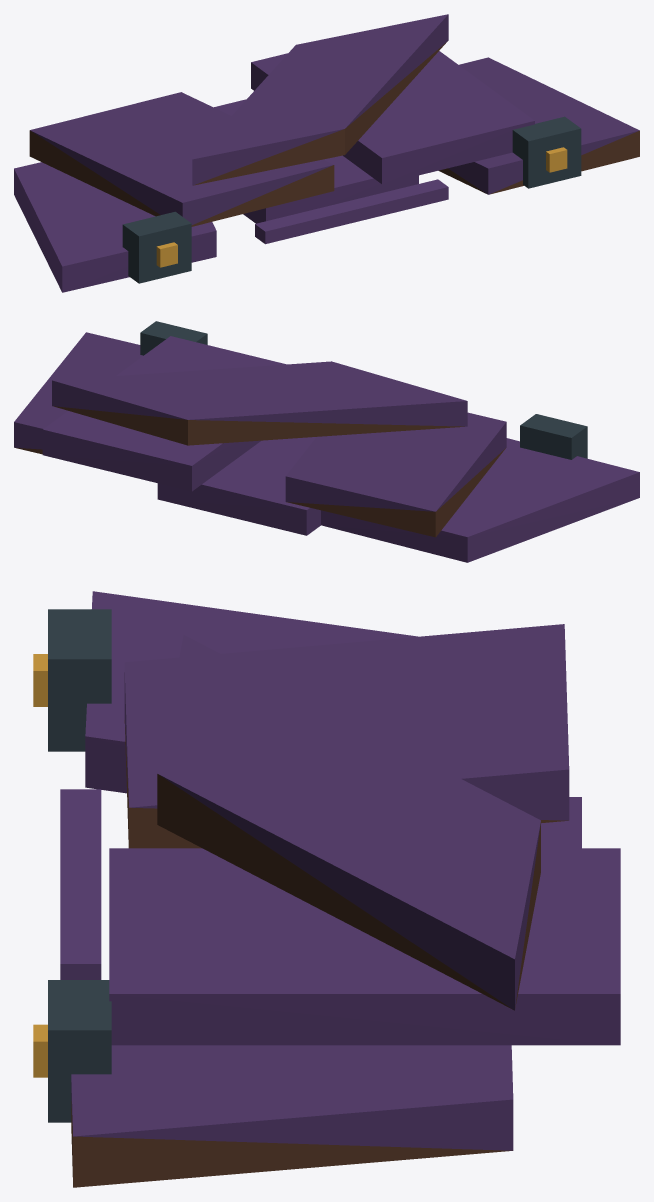
The model's file is scrap-planks-lilac.glb.
The picture shows the model from 3 angles, top to bottom: view 1: azimuth 30°, elevation 25°; view 2: azimuth 150°, elevation 25°; view 3: azimuth 270°, elevation 25°; orthographic projection. The views are drawn at different scales.
Parts seen in each view (by area): view 1: scrap-planks-lilac; view 2: scrap-planks-lilac; view 3: scrap-planks-lilac.
Boxes of the visible parts, x1,y1,x2,y2 form: scrap-planks-lilac: (14, 14, 639, 292); scrap-planks-lilac: (14, 321, 639, 562); scrap-planks-lilac: (33, 591, 620, 1187).
Size of the model in its own units: 1.52 by 0.2 by 0.6915.
